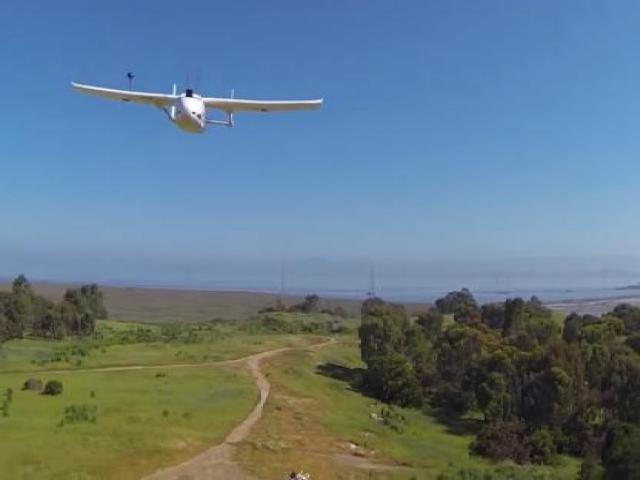uav: (69, 62, 325, 139)
